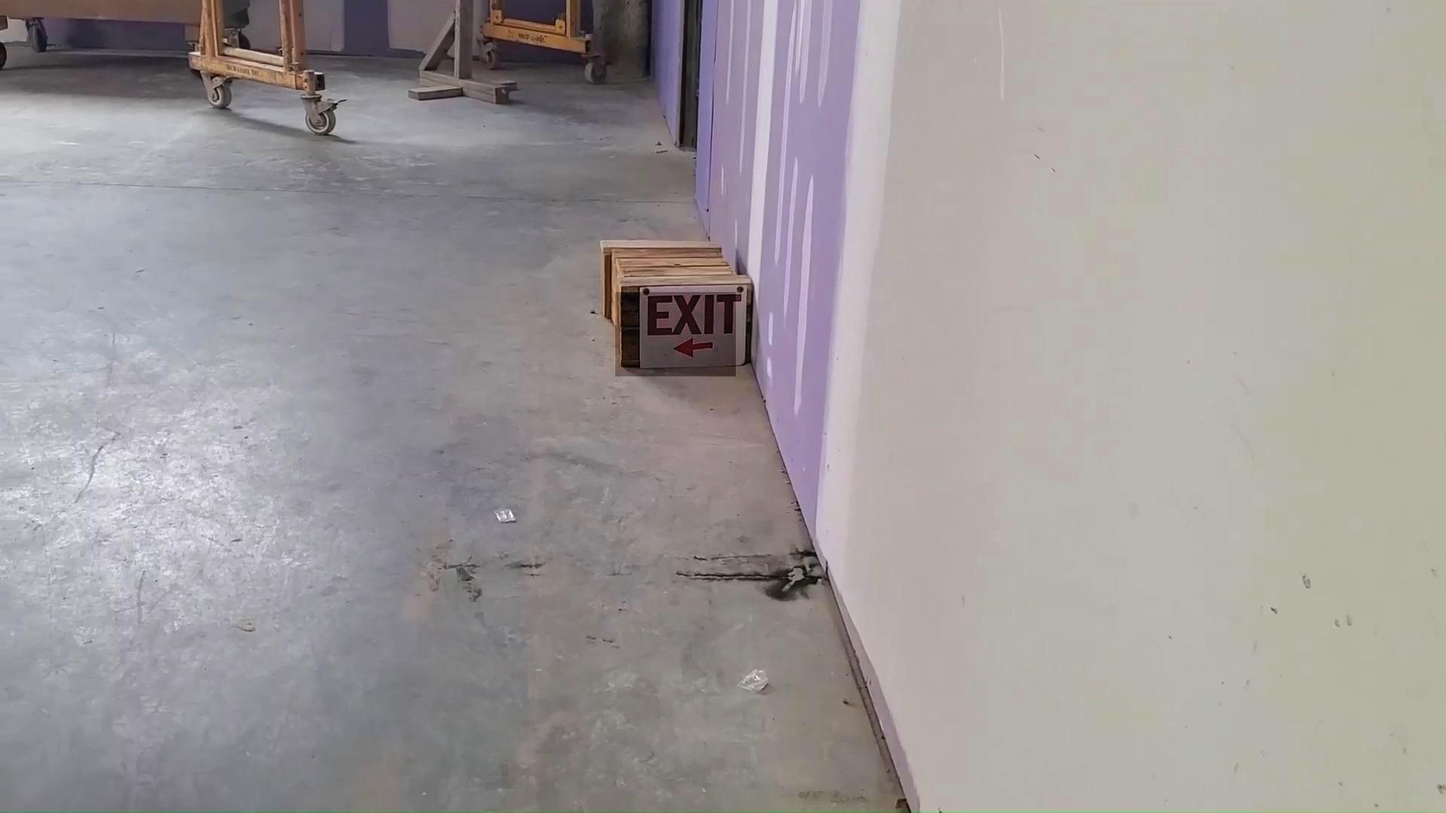exit_sign: (615, 292, 736, 376)
